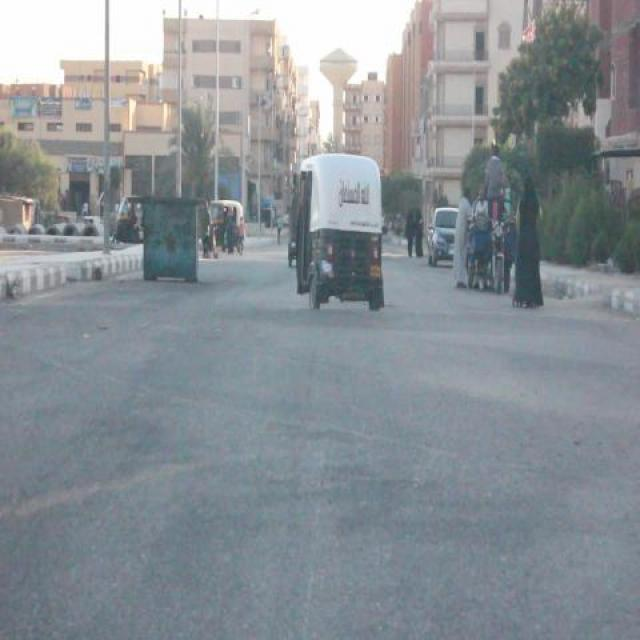Pothole: (94, 322, 110, 331)
Unmarked Bump: (216, 305, 623, 343)
